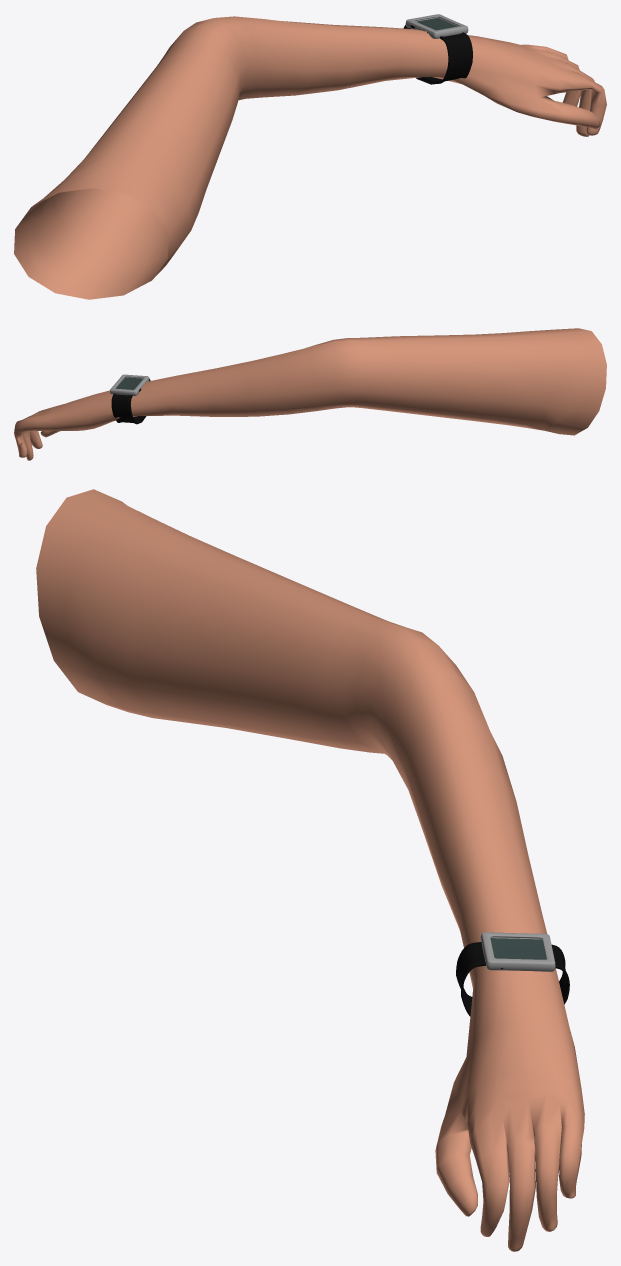
File: ArmWithWatch.fbx
3 renders of one model, top to bottom at view 1: azimuth 30°, elevation 25°; view 2: azimuth 150°, elevation 25°; view 3: azimuth 270°, elevation 25°, orthographic. The views are drawn at different scales.
Visible parts, largest first — view 1: Cube.007, Cube.009; view 2: Cube.007, Cube.009; view 3: Cube.007, Cube.009.
Boxes of the visible parts, box(x1,y1,x2,y2) form: Cube.007: box(14, 16, 606, 299); Cube.009: box(403, 14, 472, 84); Cube.007: box(14, 328, 606, 460); Cube.009: box(110, 374, 150, 424); Cube.007: box(36, 489, 584, 1251); Cube.009: box(456, 932, 569, 1016).
Bounding box in the file's own units: 58.58 × 19.17 × 28.15.
